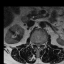CCS_normal: (37, 41, 39, 50)
LFS_stenosis: (42, 40, 44, 47)
LLS_normal: (39, 41, 42, 47)
RFS_stenosis: (32, 40, 35, 47)
RLS_normal: (35, 41, 37, 47)
